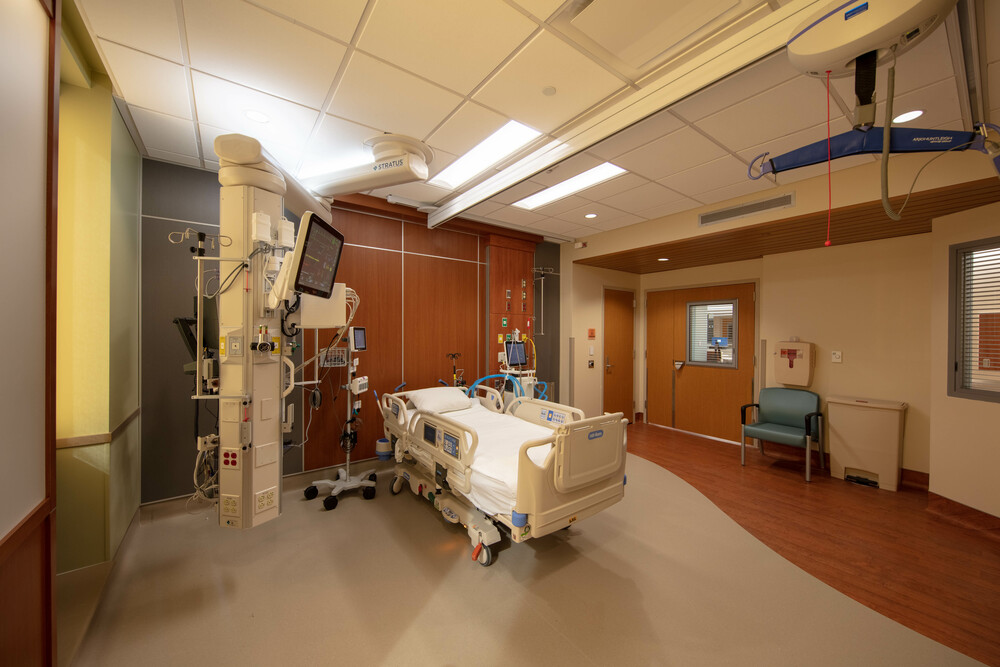bedrail: (408, 408, 478, 467), (504, 396, 586, 430), (380, 393, 408, 433), (469, 384, 504, 415)
bedside_monitor: (286, 210, 344, 301), (341, 321, 375, 357)
breathing_tube: (469, 373, 550, 402)
chair: (740, 387, 825, 482)
door_handle: (604, 359, 616, 372), (674, 359, 683, 371)
foot_board: (514, 411, 631, 538)
hospital_bed: (374, 384, 630, 567)
iv_pole: (167, 226, 232, 397), (445, 352, 463, 385)
medical_waste_container: (772, 340, 816, 387)
ventilator: (502, 339, 546, 398)
waste_bin: (825, 392, 910, 493)
